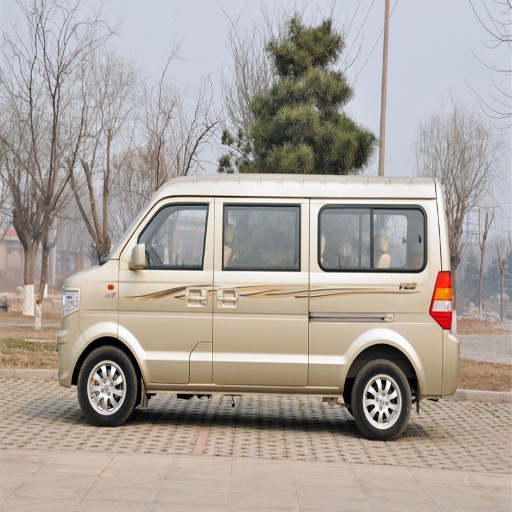trunk: (225, 286, 448, 393)
